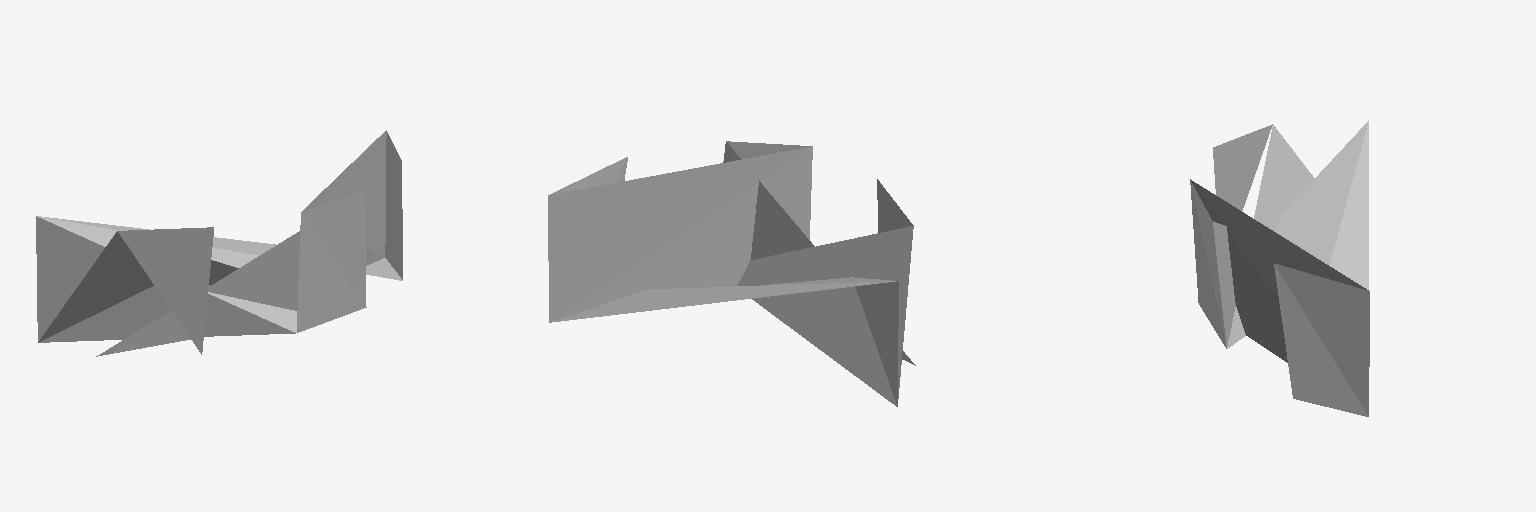
File: body.obj
3 views of the same model, side by side, from view 1: azimuth 30°, elevation 25°; view 2: azimuth 150°, elevation 25°; view 3: azimuth 270°, elevation 25° (orthographic).
Bounding box in the file's own units: 0.988 × 0.4133 × 0.4383.